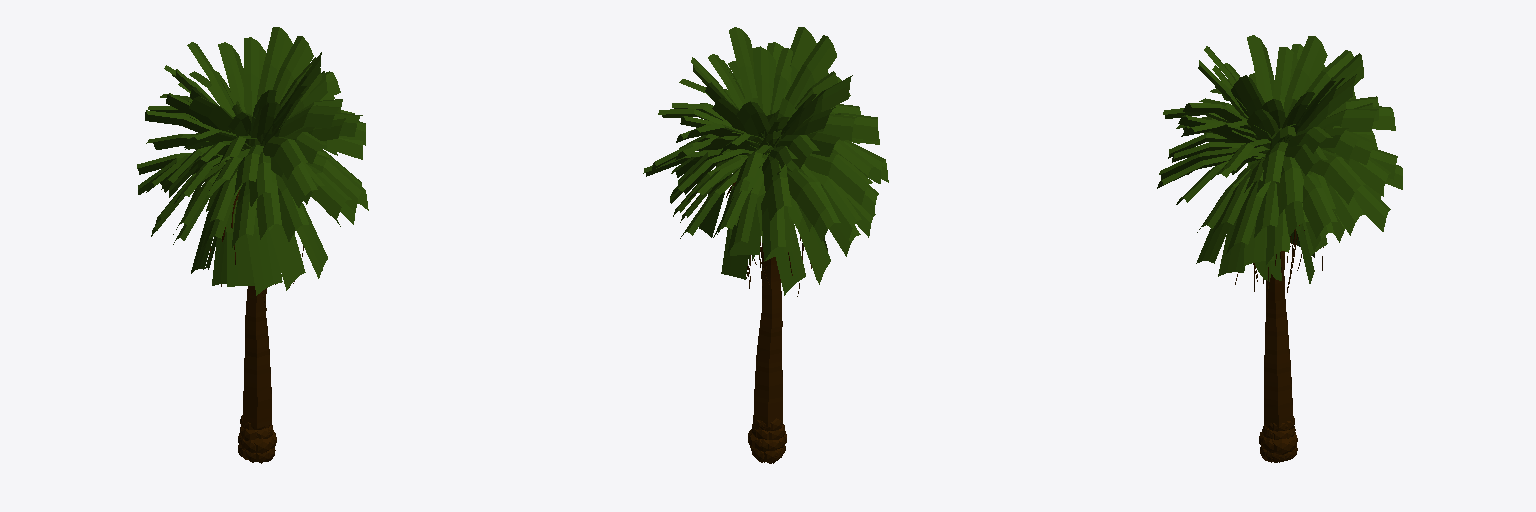
The model's file is palmera.obj.
3 views of the same model, side by side, from view 1: azimuth 30°, elevation 25°; view 2: azimuth 150°, elevation 25°; view 3: azimuth 270°, elevation 25° (orthographic).
Visible parts, largest first — view 1: hojas_palmera_, Date_Palm; view 2: hojas_palmera_, Date_Palm; view 3: hojas_palmera_, Date_Palm.
Boxes of the visible parts, <box> form: hojas_palmera_: <box>137,27,368,295</box>; Date_Palm: <box>209,190,303,463</box>; hojas_palmera_: <box>643,27,888,295</box>; Date_Palm: <box>726,182,811,463</box>; hojas_palmera_: <box>1157,35,1402,283</box>; Date_Palm: <box>1235,225,1323,462</box>.
Size of the model in its own units: 12.85 by 24.38 by 13.31.